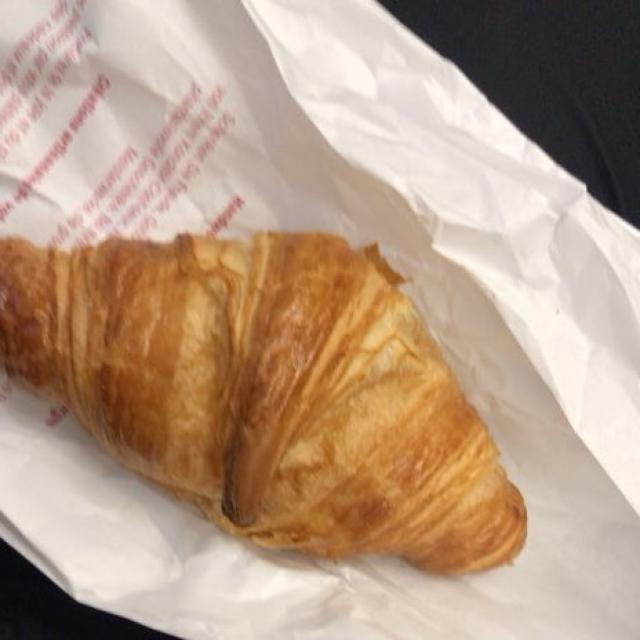croissant: (2, 235, 515, 569)
